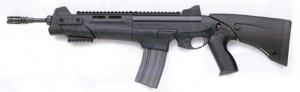rifle: (2, 0, 300, 92)
